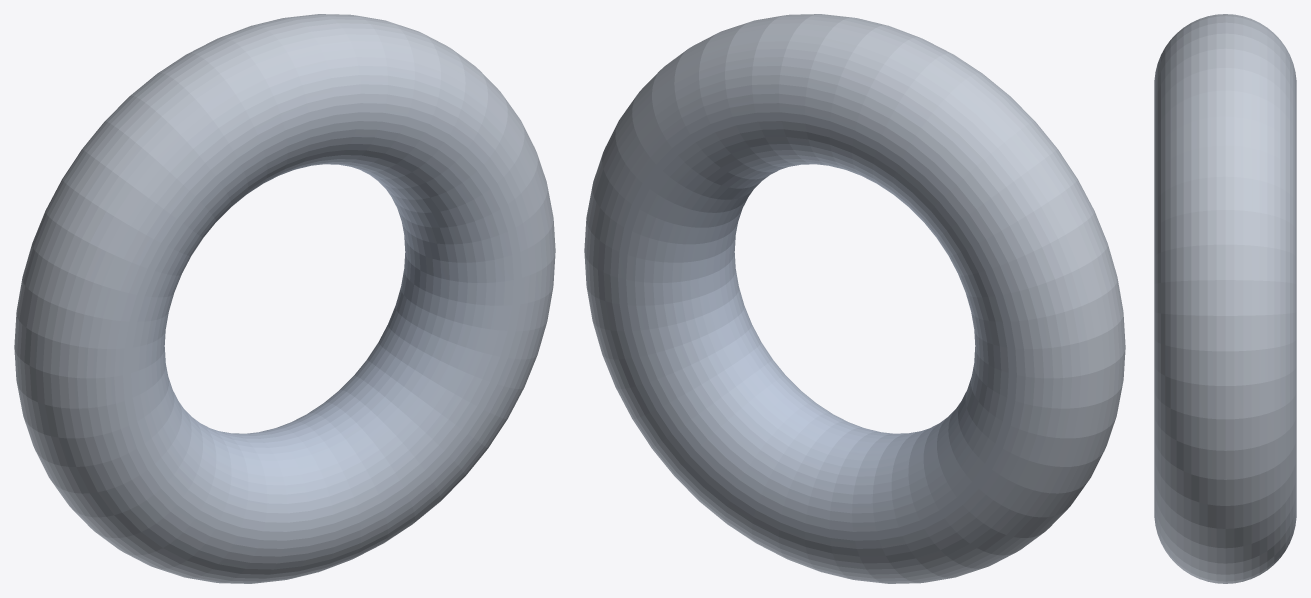
3 renders of one model, left to right at view 1: azimuth 30°, elevation 25°; view 2: azimuth 150°, elevation 25°; view 3: azimuth 270°, elevation 25°, orthographic. The views are drawn at different scales.
Visible parts, largest first — view 1: world; view 2: world; view 3: world.
Boxes of the visible parts, left/top/right/bottom form: world: left=14, top=14, right=555, bottom=583; world: left=584, top=14, right=1125, bottom=583; world: left=1154, top=14, right=1296, bottom=583.
Bounding box in the file's own units: 24 × 23.95 × 5.99.
